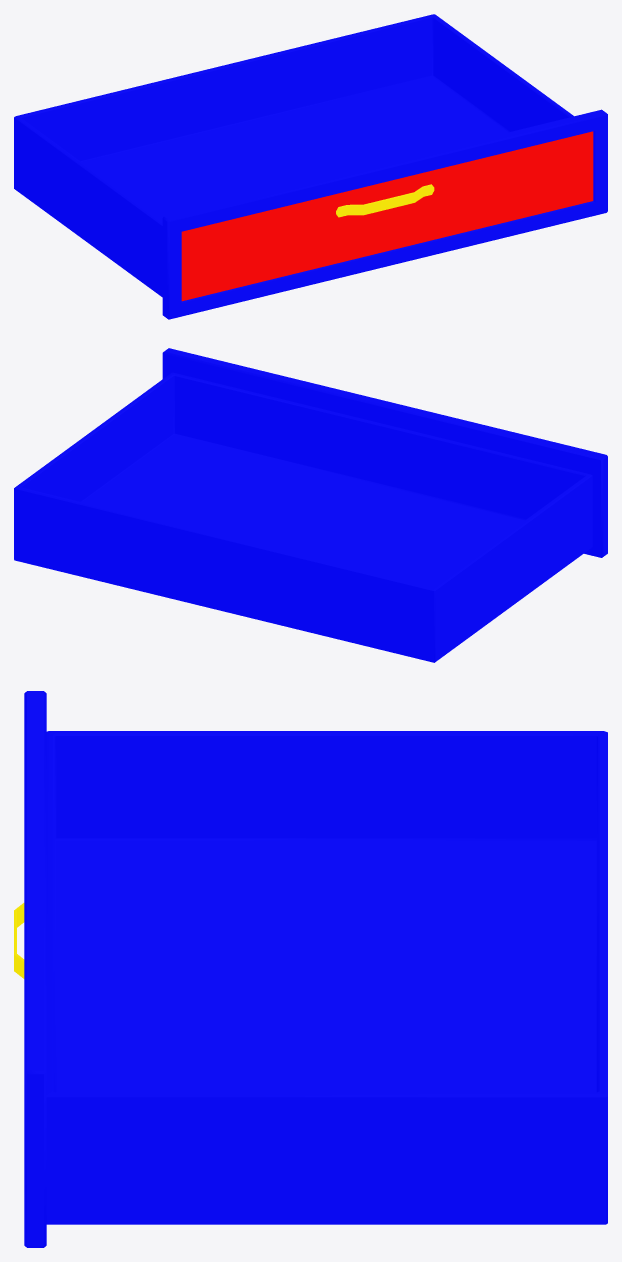
The model's file is K_Schublade4.fbx.
The picture shows the model from 3 angles, top to bottom: view 1: azimuth 30°, elevation 25°; view 2: azimuth 150°, elevation 25°; view 3: azimuth 270°, elevation 25°; orthographic projection. The views are drawn at different scales.
Parts seen in each view (by area): view 1: Schublade4; view 2: Schublade4; view 3: Schublade4.
Boxes of the visible parts, x1=… form: Schublade4: x1=14, y1=14, x2=607, y2=319; Schublade4: x1=14, y1=348, x2=607, y2=662; Schublade4: x1=14, y1=691, x2=607, y2=1247.
Size of the model in its own units: 79.82 by 17.27 by 52.45.
